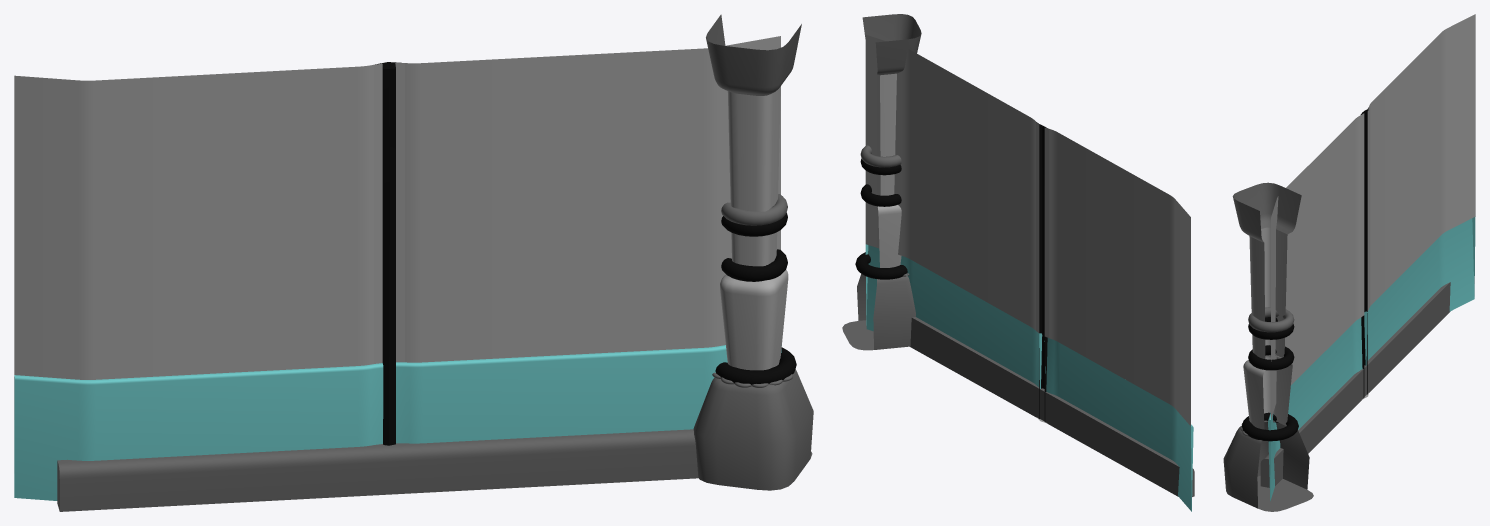
Rendered from wall.fbx.
3 renders of one model, left to right at view 1: azimuth 30°, elevation 25°; view 2: azimuth 150°, elevation 25°; view 3: azimuth 270°, elevation 25°, orthographic. The views are drawn at different scales.
Visible parts, largest first — view 1: Object013; view 2: Object013; view 3: Object013.
Boxes of the visible parts, bbox=[...] form: Object013: bbox=[14, 14, 813, 511]; Object013: bbox=[842, 14, 1194, 511]; Object013: bbox=[1223, 14, 1475, 511].
Bounding box in the file's own units: 58.32 × 37.75 × 29.08.
